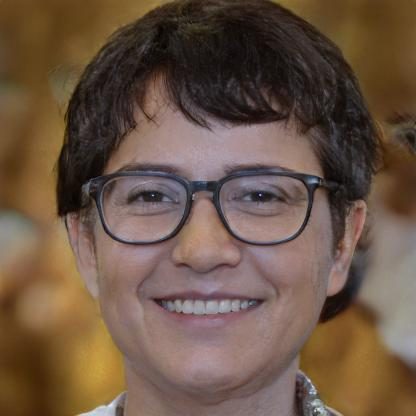glasses: (84, 162, 326, 248)
